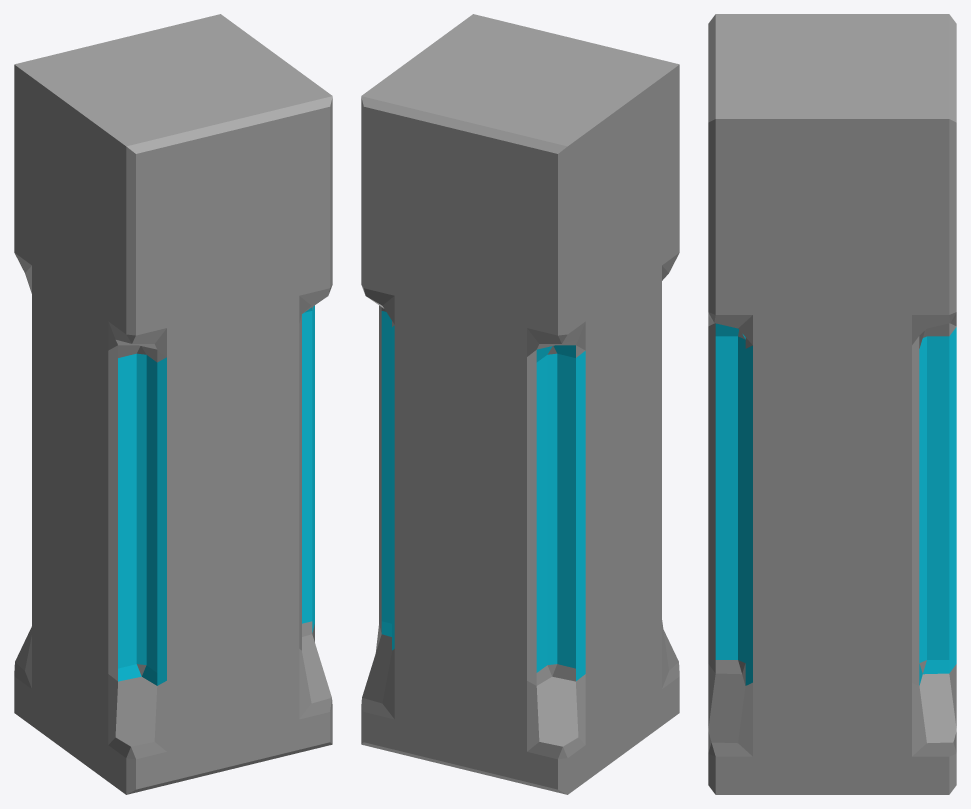
File: Pilier.fbx
3 renders of one model, left to right at view 1: azimuth 30°, elevation 25°; view 2: azimuth 150°, elevation 25°; view 3: azimuth 270°, elevation 25°, orthographic. The views are drawn at different scales.
Visible parts, largest first — view 1: Pilier; view 2: Pilier; view 3: Pilier.
Boxes of the visible parts, left/top/right/bottom form: Pilier: left=14, top=14, right=332, bottom=794; Pilier: left=361, top=14, right=679, bottom=794; Pilier: left=708, top=14, right=956, bottom=794.
Bounding box in the file's own units: 200 × 600 × 200.
